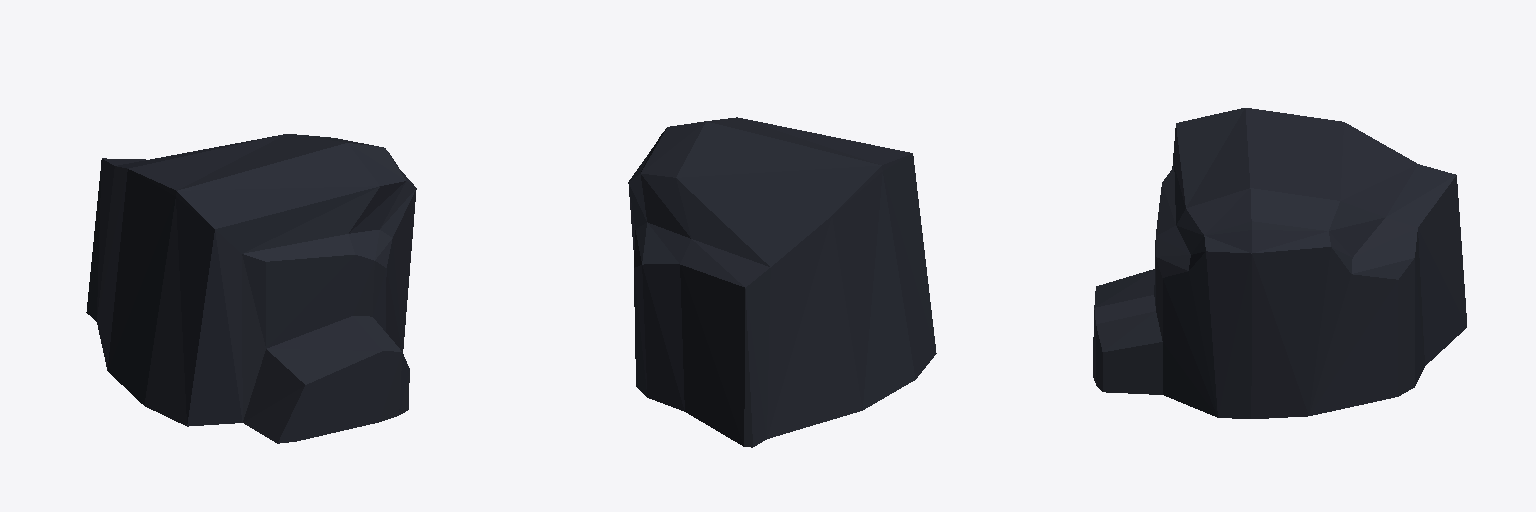
The model's file is Rock_6.obj.
The picture shows the model from 3 angles: view 1: azimuth 30°, elevation 25°; view 2: azimuth 150°, elevation 25°; view 3: azimuth 270°, elevation 25°; orthographic projection.
Visible parts, largest first — view 1: Rock_6_Cube.026; view 2: Rock_6_Cube.026; view 3: Rock_6_Cube.026.
Boxes of the visible parts, x1=… form: Rock_6_Cube.026: x1=86, y1=134, x2=416, y2=443; Rock_6_Cube.026: x1=628, y1=117, x2=936, y2=447; Rock_6_Cube.026: x1=1093, y1=108, x2=1466, y2=418.
Bounding box in the file's own units: 0.912 × 0.7078 × 1.14.